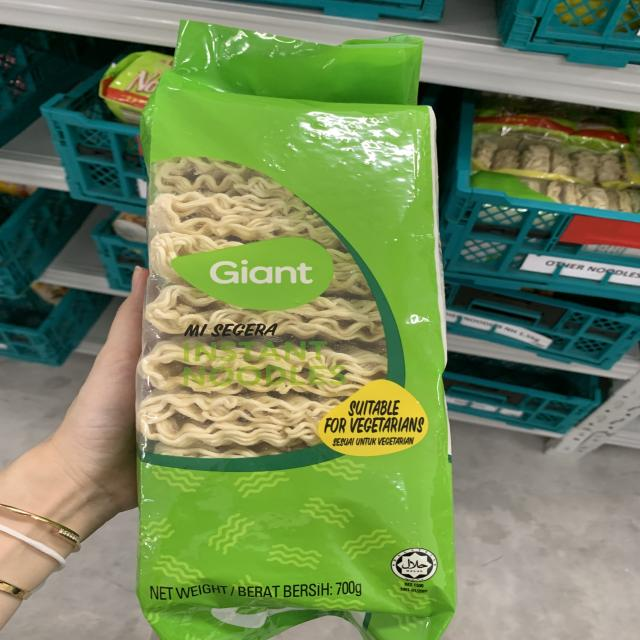object_name: (170, 56, 447, 621)
